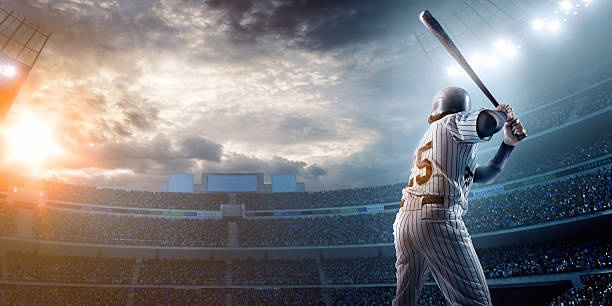bita: (419, 9, 501, 110)
